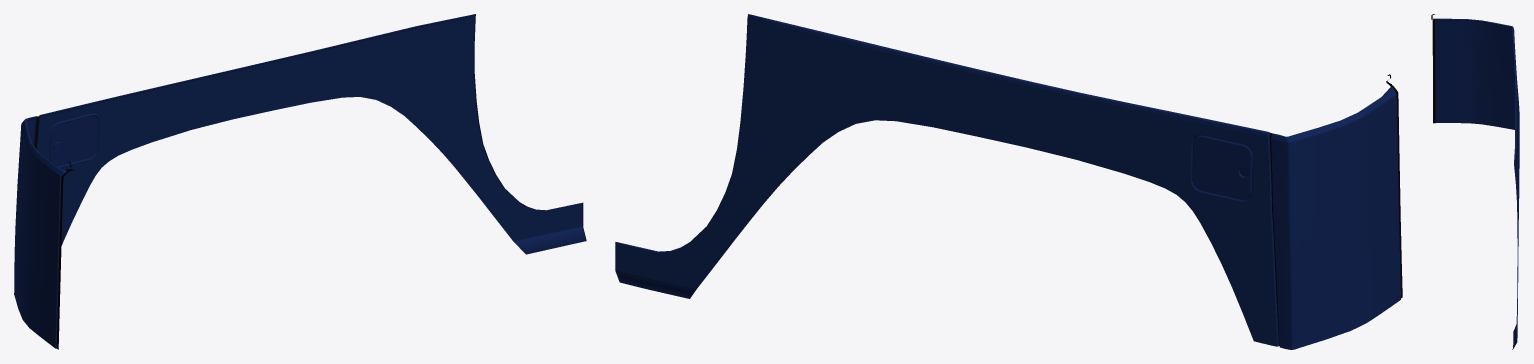
3 views of the same model, side by side, from view 1: azimuth 30°, elevation 25°; view 2: azimuth 150°, elevation 25°; view 3: azimuth 270°, elevation 25° (orthographic). The views are drawn at different scales.
Parts seen in each view (by area): view 1: J715_8A_381B_L_1_DaS_J715_8A_381B_L, J715_8A_381B_L_1_DaS_J715_8A_381B_L_E, J715_8A_381B_L_J715_8A_381B_L_2_D; view 2: J715_8A_381B_L_1_DaS_J715_8A_381B_L, J715_8A_381B_L_1_DaS_J715_8A_381B_L_E, J715_8A_381B_L_J715_8A_381B_L_2_D; view 3: J715_8A_381B_L_1_DaS_J715_8A_381B_L, J715_8A_381B_L_1_DaS_J715_8A_381B_L_E, J715_8A_381B_L_J715_8A_381B_L_2_D.
Boxes of the visible parts, bbox=[...] form: J715_8A_381B_L_1_DaS_J715_8A_381B_L: bbox=[14, 14, 585, 347]; J715_8A_381B_L_1_DaS_J715_8A_381B_L_E: bbox=[24, 14, 586, 348]; J715_8A_381B_L_J715_8A_381B_L_2_D: bbox=[35, 116, 74, 349]; J715_8A_381B_L_1_DaS_J715_8A_381B_L: bbox=[615, 15, 1400, 349]; J715_8A_381B_L_1_DaS_J715_8A_381B_L_E: bbox=[615, 14, 1392, 346]; J715_8A_381B_L_J715_8A_381B_L_2_D: bbox=[1269, 74, 1402, 345]; J715_8A_381B_L_1_DaS_J715_8A_381B_L: bbox=[1435, 19, 1519, 347]; J715_8A_381B_L_1_DaS_J715_8A_381B_L_E: bbox=[1434, 18, 1518, 349]; J715_8A_381B_L_J715_8A_381B_L_2_D: bbox=[1431, 14, 1435, 123].
Bounding box in the file's own units: 168 × 72.67 × 35.68.
